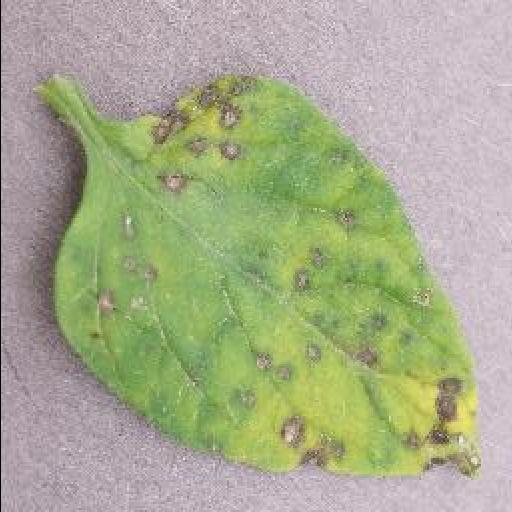disease_tomato: (52, 75, 480, 476)
